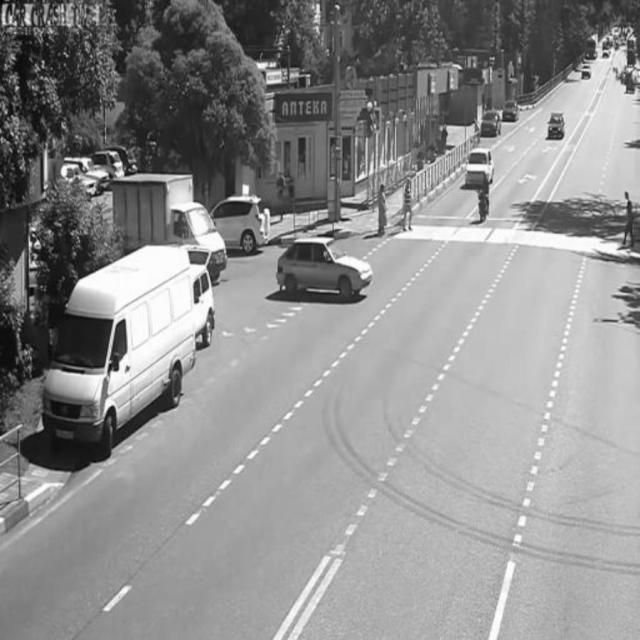person: (619, 191, 639, 255), (372, 177, 392, 238), (402, 173, 417, 231)
vehicle: (45, 255, 191, 452), (112, 175, 226, 263), (275, 238, 373, 302), (212, 195, 267, 253), (463, 145, 493, 185), (474, 168, 494, 226), (545, 112, 569, 142), (477, 108, 501, 136), (501, 95, 519, 125)
